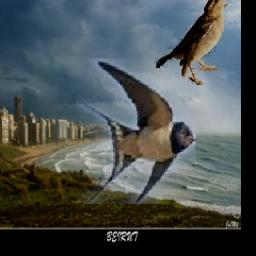Sparrow: (155, 0, 228, 85)
Swallow: (77, 59, 197, 205)
